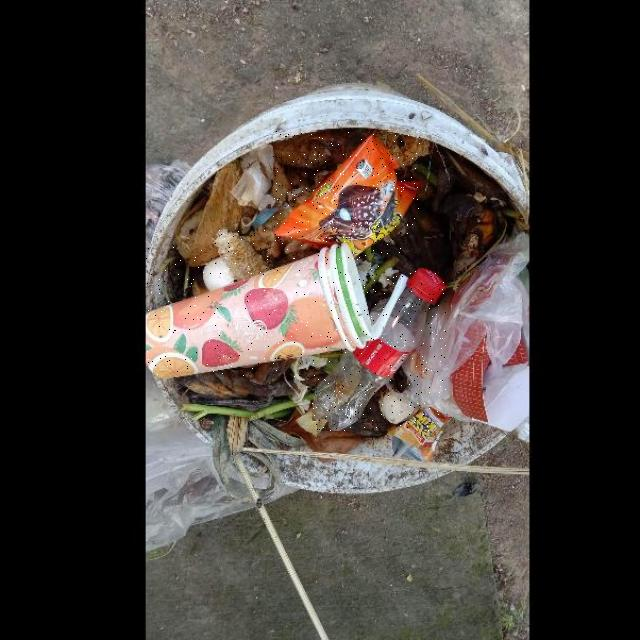biowaste: (214, 228, 266, 280), (203, 254, 233, 290)
paper: (145, 242, 371, 379)
plastic: (312, 266, 446, 431)
wrapper: (274, 131, 420, 254)
